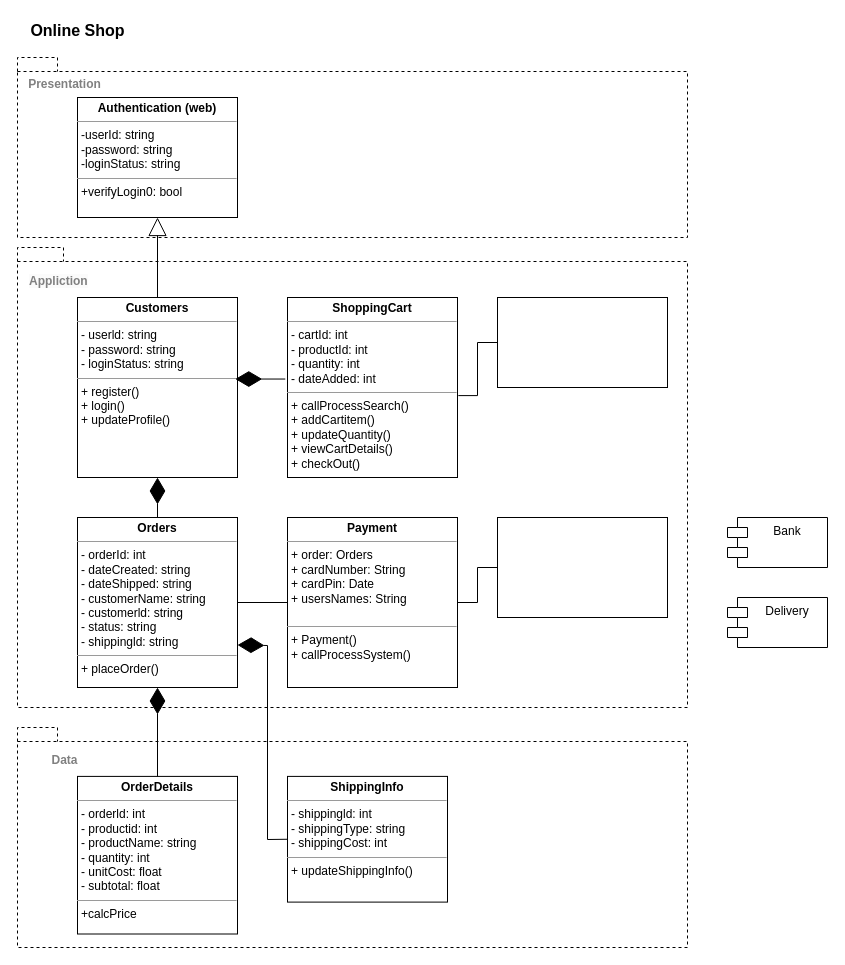
Image size: 845x965. Some labels were removed from this diagram. The shapes that lost their labels are listed below. From the top down, each one's centre as x and y in pixels, then its label:
At [582,342]: "SearchEngine + SearchEngine() + ProcessPayment()".
At [582,567]: "PaymentSystem + PaymentSystem() + processPayment()".
